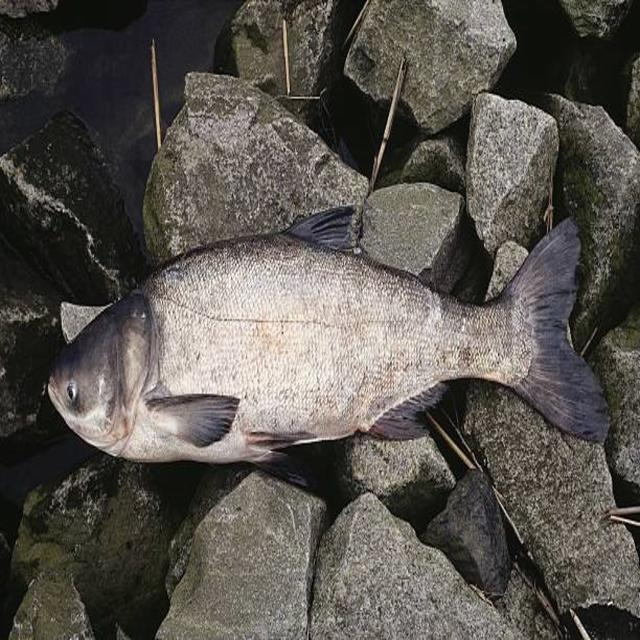Big-Head-Carp: (22, 180, 624, 541)
